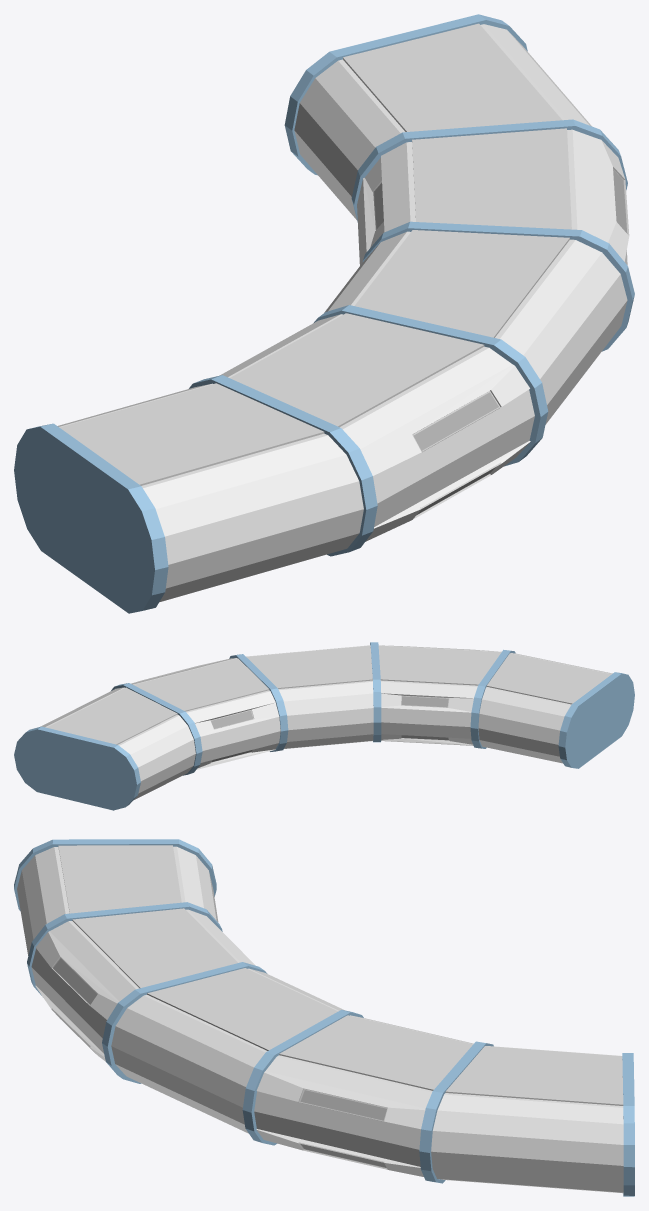
The picture shows the model from 3 angles, top to bottom: view 1: azimuth 30°, elevation 25°; view 2: azimuth 150°, elevation 25°; view 3: azimuth 270°, elevation 25°; orthographic projection. The views are drawn at different scales.
Parts seen in each view (by area): view 1: Cylinder_13; view 2: Cylinder_13; view 3: Cylinder_13.
Part boxes in pixels (left/top/right/bottom): Cylinder_13: left=14, top=14, right=634, bottom=613; Cylinder_13: left=14, top=642, right=634, bottom=810; Cylinder_13: left=14, top=839, right=634, bottom=1196.
Size of the model in its own units: 2000 by 297 by 1851.
